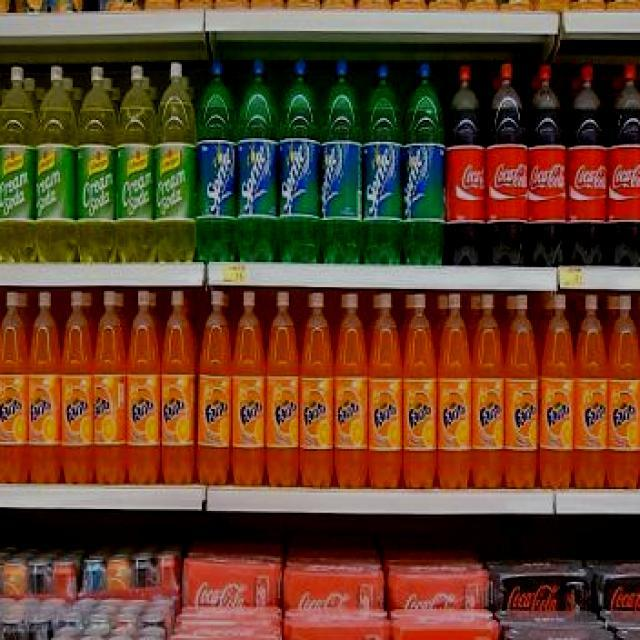Drinks: (321, 57, 363, 265), (403, 61, 446, 264), (279, 57, 321, 263), (566, 62, 608, 266), (486, 62, 528, 266), (362, 62, 404, 266), (237, 58, 279, 262), (196, 61, 238, 261), (528, 62, 568, 266), (446, 64, 486, 266), (160, 290, 196, 485), (437, 291, 472, 489), (540, 294, 575, 490), (126, 290, 161, 486), (265, 290, 300, 486), (300, 292, 335, 488), (607, 59, 640, 266), (197, 290, 232, 485), (27, 291, 62, 484), (504, 294, 538, 490), (574, 294, 608, 490), (232, 292, 266, 486), (92, 292, 126, 484), (369, 292, 402, 488), (60, 292, 93, 484), (336, 292, 368, 488), (404, 292, 436, 488), (472, 292, 504, 488), (609, 294, 640, 490), (0, 292, 27, 483), (181, 562, 283, 608), (386, 572, 489, 610), (282, 573, 384, 611), (490, 575, 588, 610), (282, 622, 391, 640), (600, 574, 640, 611), (391, 629, 500, 640)
